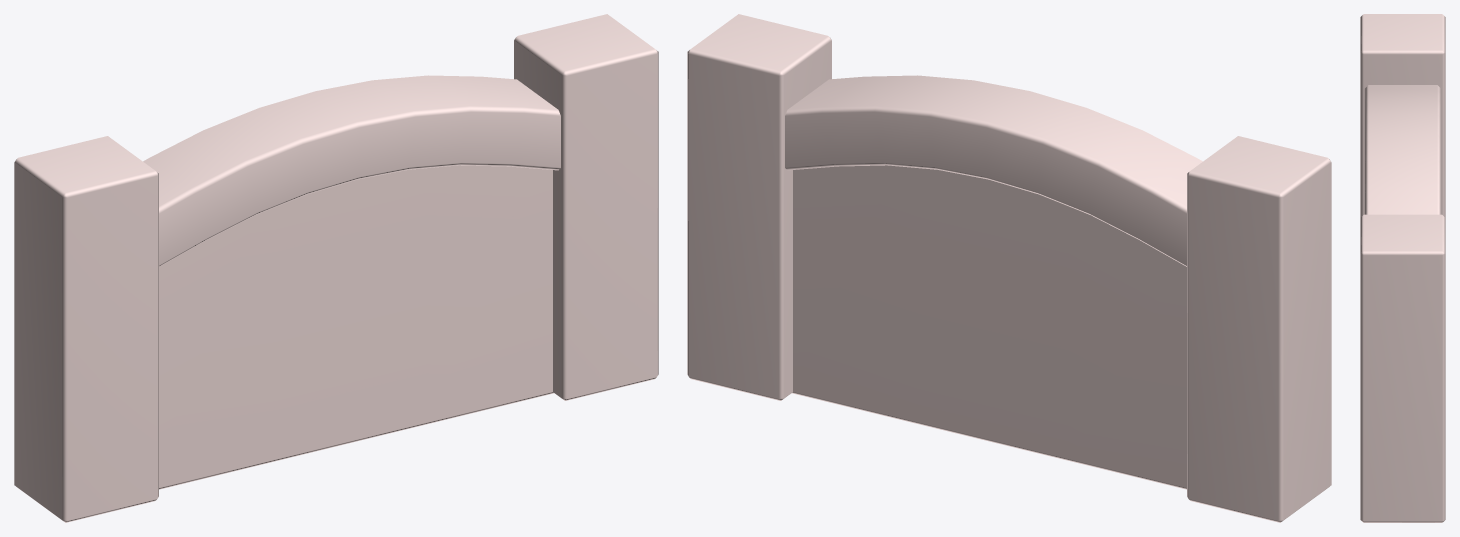
The model's file is Town_12_Fence_1.glb.
3 renders of one model, left to right at view 1: azimuth 30°, elevation 25°; view 2: azimuth 150°, elevation 25°; view 3: azimuth 270°, elevation 25°, orthographic. The views are drawn at different scales.
Parts seen in each view (by area): view 1: Town_12_Fence_1; view 2: Town_12_Fence_1; view 3: Town_12_Fence_1.
Part boxes in pixels (bbox=[...]): Town_12_Fence_1: bbox=[14, 14, 658, 522]; Town_12_Fence_1: bbox=[687, 14, 1331, 522]; Town_12_Fence_1: bbox=[1360, 14, 1445, 522].
Size of the model in its own units: 1.94 by 1.03 by 0.2919.
Materials: 1 (1 with a texture image).
